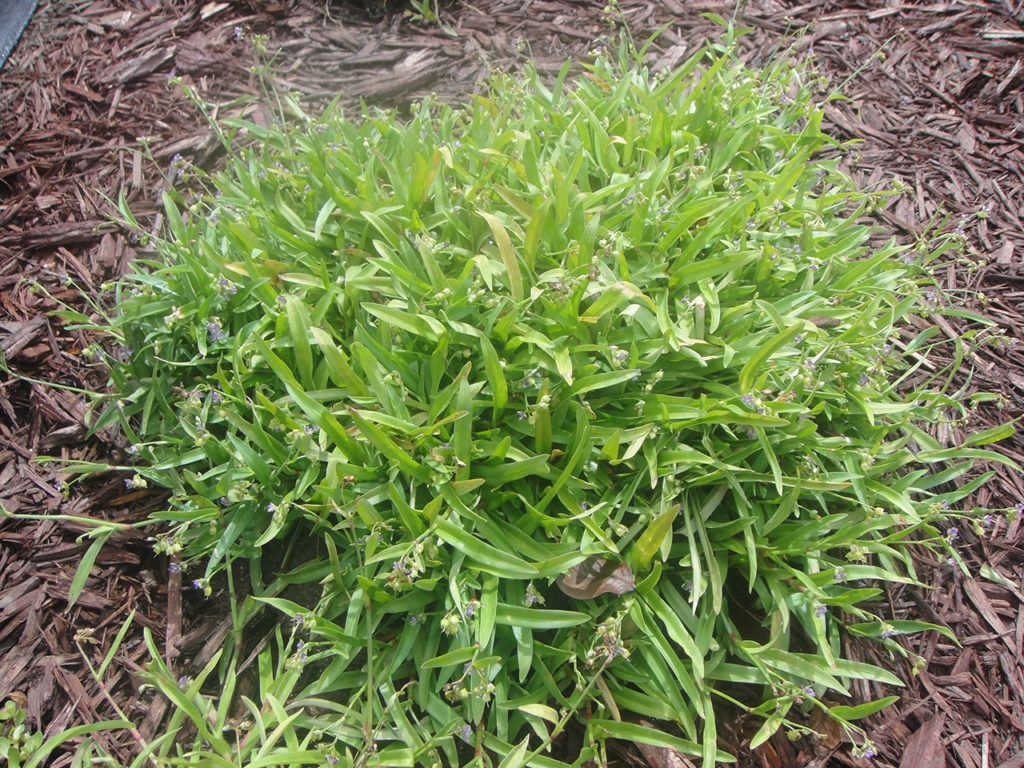crabgrass: (122, 73, 930, 710)
